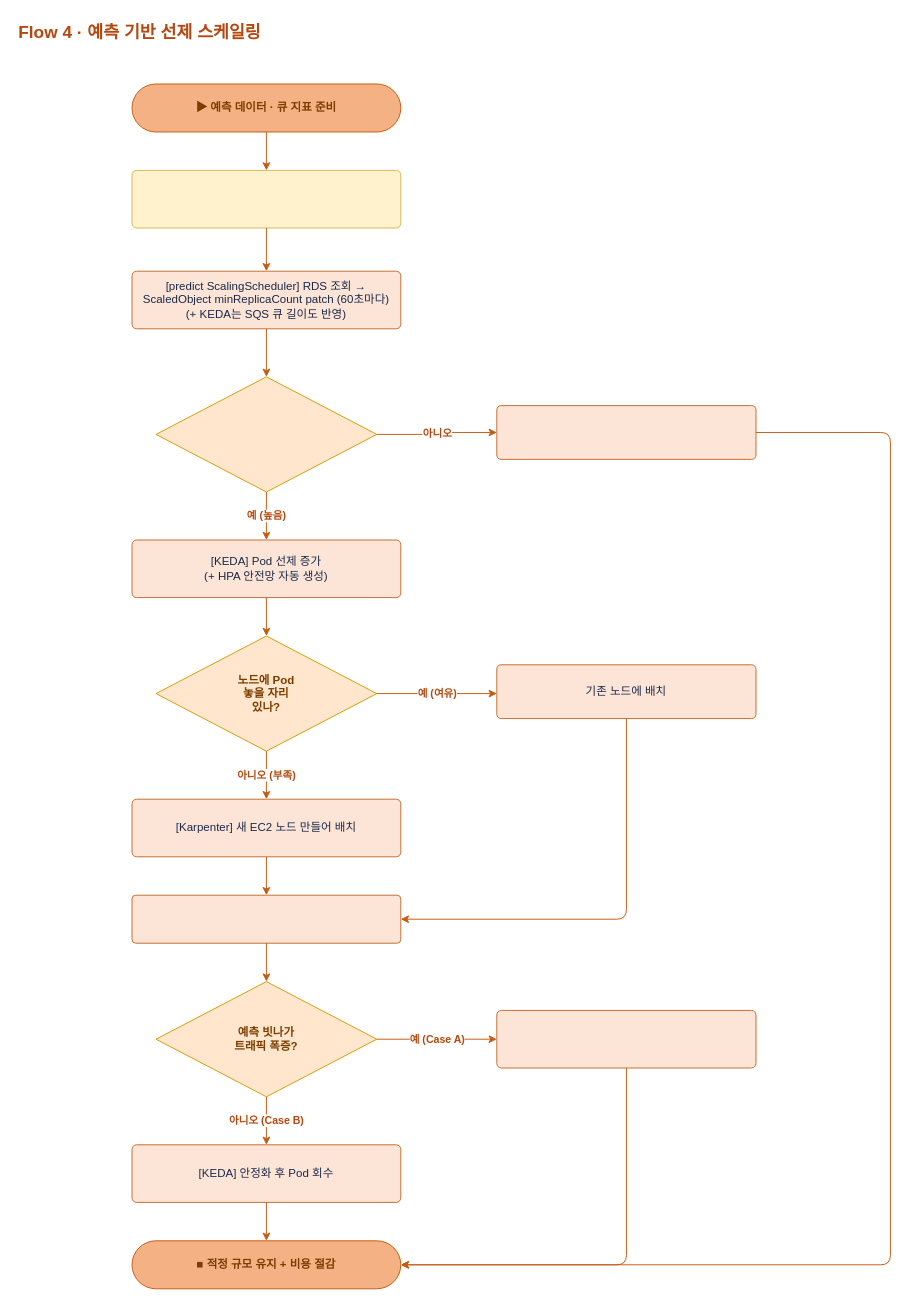
The diagram is 915 pixels wide and 1306 high, and some of its shapes have lost their labels. The shapes that lost their labels are listed below. From the top down, each one's centre as x and y in pixels, then its label:
At (x=266, y=198): "[predict ForecastScheduler] 예측 → RDS Prediction 기록 (4시간마다)".
At (x=266, y=434): "예측 수요가 임계치를 넘나?".
At (x=626, y=432): "현재 규모 유지 (선제 확장 불필요)".
At (x=266, y=918): "실측 트래픽 도착".
At (x=626, y=1038): "[HPA] SQS 큐 길이 급증 감지 → 반응형 추가 확장".
